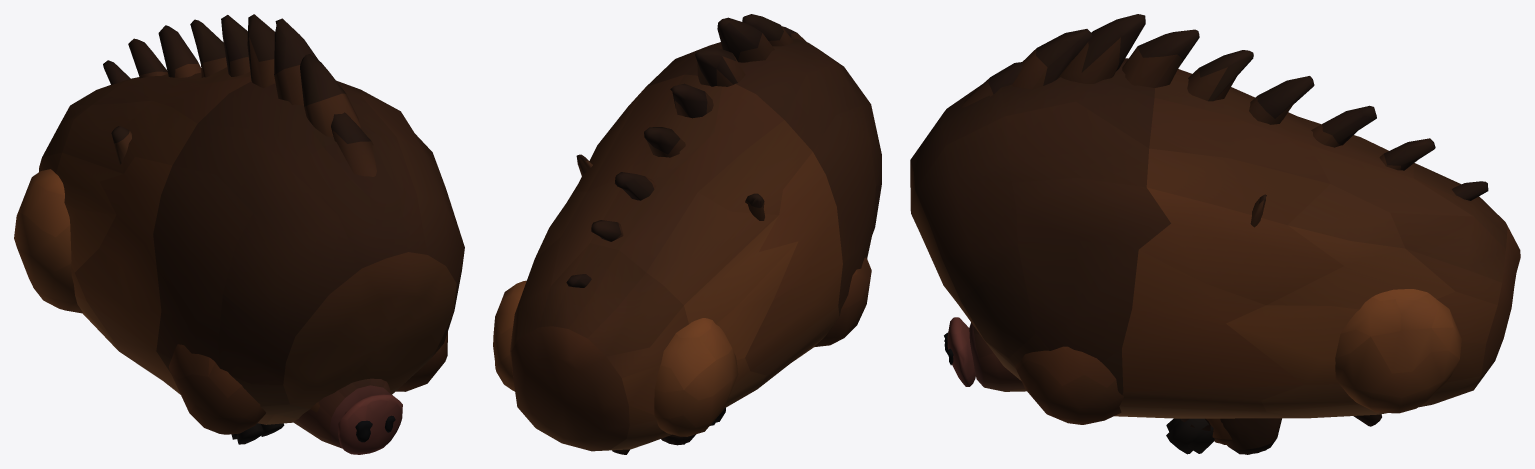
The model's file is creature_wild_boar.glb.
3 views of the same model, side by side, from view 1: azimuth 30°, elevation 25°; view 2: azimuth 150°, elevation 25°; view 3: azimuth 270°, elevation 25° (orthographic). The views are drawn at different scales.
Visible parts, largest first — view 1: Boar_Torso, Boar_Head, Boar_HindLower_L; view 2: Boar_Torso, Boar_Head; view 3: Boar_Torso, Boar_Head, Boar_HindUpper_L, Boar_HindLower_L.
Boxes of the visible parts, x1,y1,x2,y2 form: Boar_Torso: (14,14,464,434); Boar_Head: (111,126,402,454); Boar_HindLower_L: (236,423,284,444); Boar_Torso: (493,14,881,451); Boar_Head: (576,154,764,220); Boar_Torso: (910,14,1520,424); Boar_Head: (944,194,1266,391); Boar_HindUpper_L: (1220,418,1281,454); Boar_HindLower_L: (1166,418,1213,454).
Size of the model in its own units: 0.4996 by 0.8053 by 1.02.
